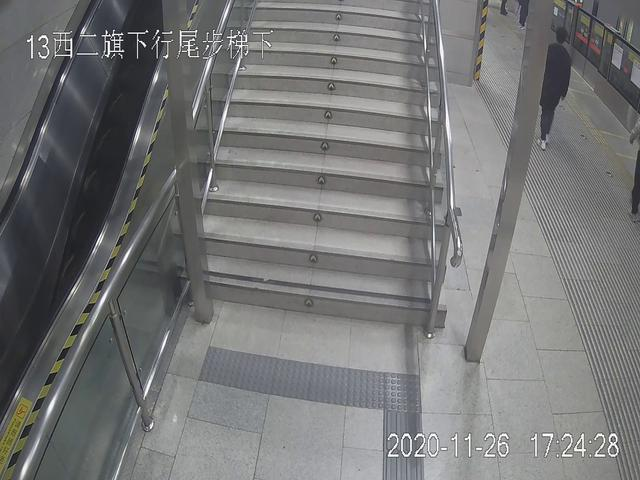person: (536, 27, 574, 150)
